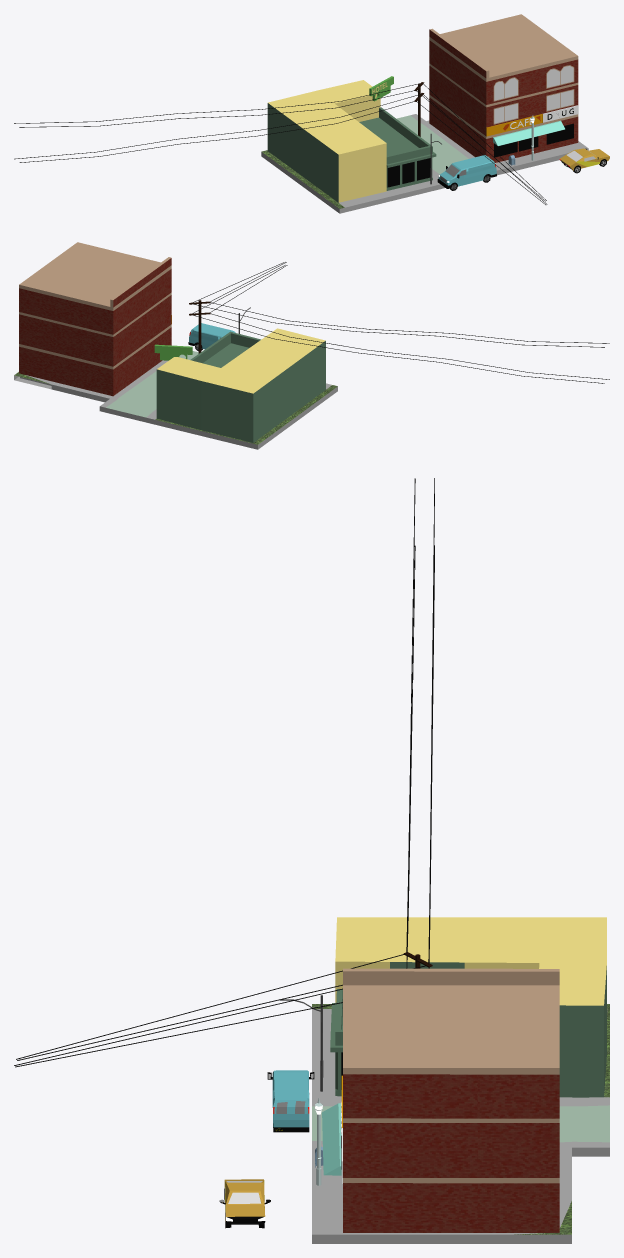
File: Streetlife Corner.glb
The picture shows the model from 3 angles, top to bottom: view 1: azimuth 30°, elevation 25°; view 2: azimuth 150°, elevation 25°; view 3: azimuth 270°, elevation 25°; orthographic projection. The views are drawn at different scales.
Parts seen in each view (by area): view 1: Bldg.001, Bldg.002, Ground, Bldg, LV Wires.007, Van Body, Car, Canopy, LV Wires, Hotel Sign; view 2: Bldg.001, Bldg.002, Ground, LV Wires.007, Bldg, Van Body, Hotel Sign, LV Wires, Power Pole; view 3: Bldg.001, Bldg.002, Ground, Van Body, LV Wires, LV Wires.007, Car, Canopy, Bldg.
Boxes of the visible parts, left/top/right/bottom form: Bldg.001: left=429, top=14, right=578, bottom=162; Bldg.002: left=267, top=80, right=386, bottom=202; Ground: left=261, top=114, right=588, bottom=213; Bldg: left=359, top=107, right=436, bottom=190; LV Wires.007: left=14, top=83, right=419, bottom=162; Van Body: left=437, top=155, right=496, bottom=190; Car: left=559, top=148, right=609, bottom=173; Canopy: left=493, top=120, right=564, bottom=145; LV Wires: left=416, top=84, right=547, bottom=204; Hotel Sign: left=369, top=76, right=393, bottom=101; Bldg.001: left=19, top=242, right=171, bottom=396; Bldg.002: left=156, top=328, right=325, bottom=442; Ground: left=14, top=351, right=337, bottom=449; LV Wires.007: left=192, top=302, right=609, bottom=383; Bldg: left=190, top=331, right=260, bottom=367; Van Body: left=188, top=323, right=235, bottom=351; Hotel Sign: left=154, top=344, right=192, bottom=360; LV Wires: left=192, top=262, right=287, bottom=313; Power Pole: left=189, top=300, right=210, bottom=353; Bldg.001: left=341, top=968, right=559, bottom=1232; Bldg.002: left=335, top=917, right=606, bottom=1097; Ground: left=312, top=1004, right=609, bottom=1243; Van Body: left=267, top=1070, right=314, bottom=1132; LV Wires: left=14, top=954, right=425, bottom=1067; LV Wires.007: left=406, top=478, right=434, bottom=968; Car: left=219, top=1179, right=270, bottom=1228; Canopy: left=322, top=1103, right=341, bottom=1175; Bldg: left=330, top=989, right=342, bottom=1096.
Size of the model in its own units: 71.73 by 17.48 by 35.92.
50 materials, 2 textured.
